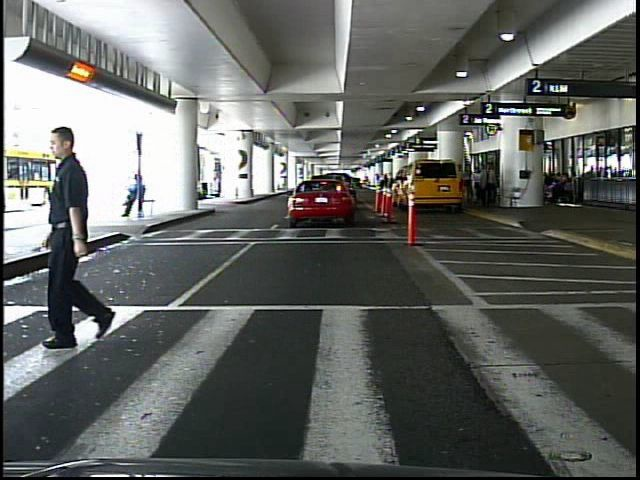person: (51, 125, 141, 349), (480, 163, 498, 209)
